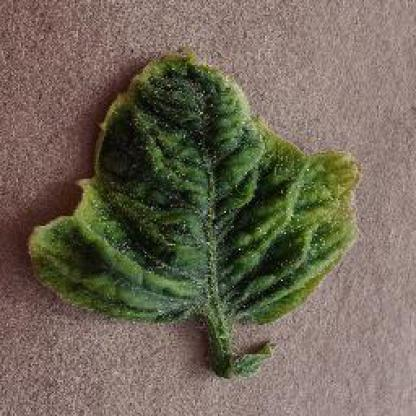bad leaf: (20, 33, 374, 382)
